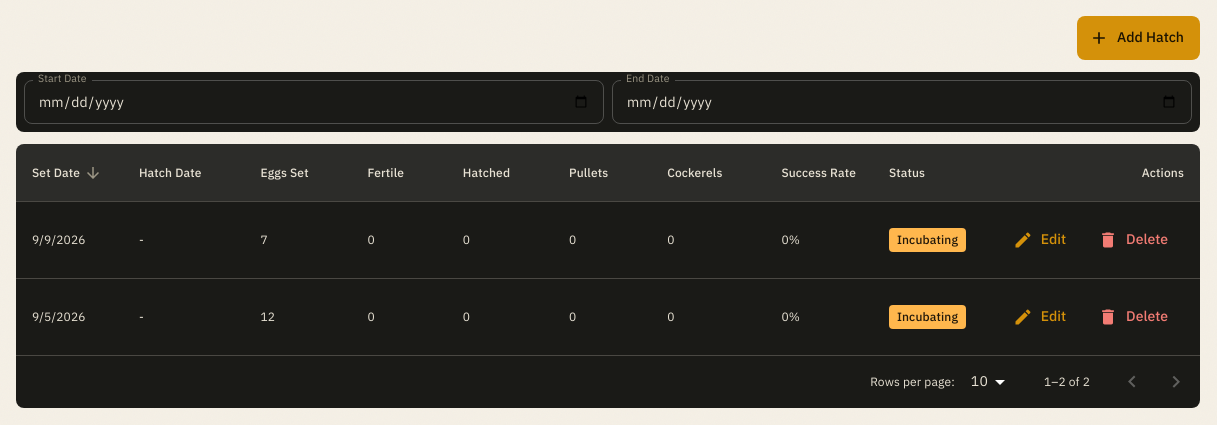
Test: HatchLogPage — the End Date filter includes its own day › keeps the event set on the end date
The width and height of the screenshot is (1217, 425).
Expected: the text "12" is shown, [244,278,352,356]
Expected: the text "7" is shown, [244,202,352,278]
Type "2026-09-05" into the date field labelled "End Date" at {"x": 902, "y": 102}, box [612,80,1192,124]
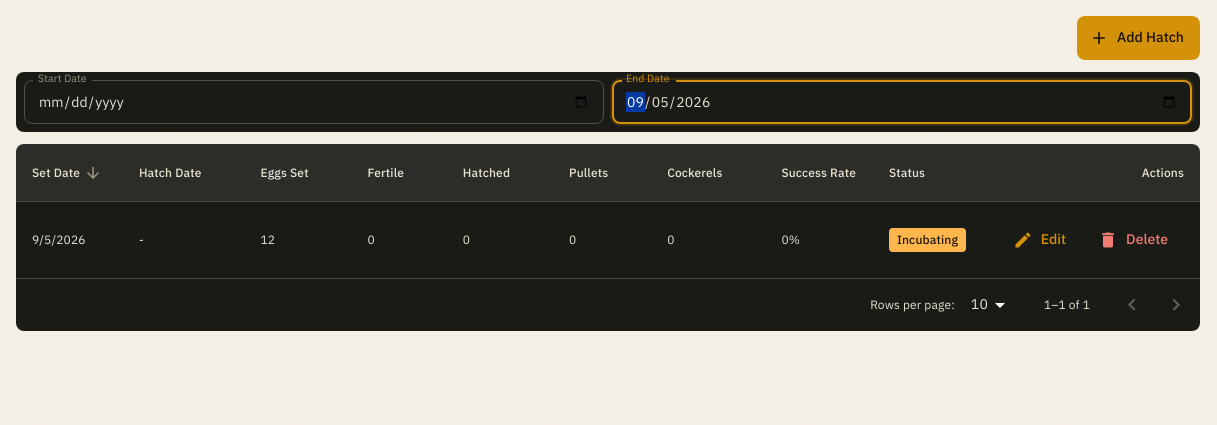
Expected: the text "12" is shown, [244,202,352,278]
Expected: the text "7" is gone
